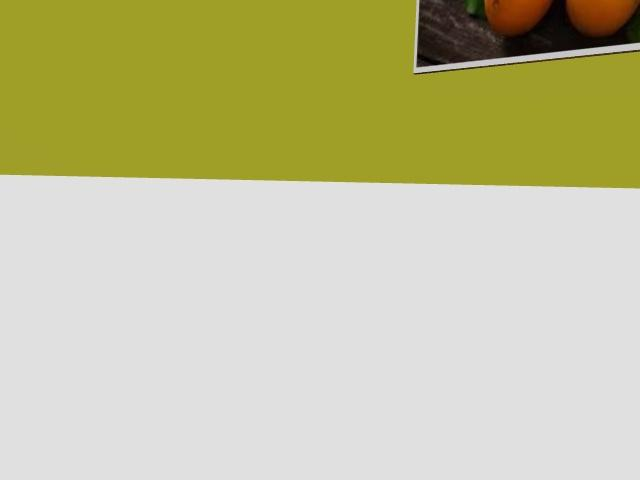orange: (566, 0, 639, 36), (485, 0, 551, 36)
